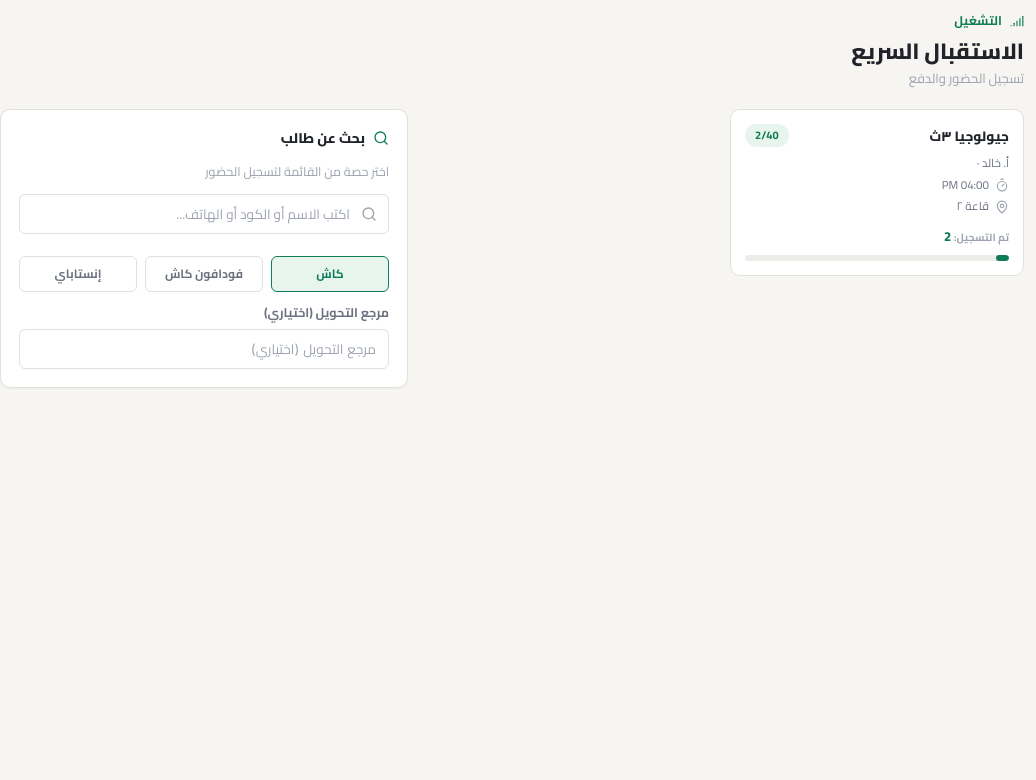
Test: LobbyPage (OperationsPage mode="lobby") › checks a student in with CASH after searching and selecting a session
Click the button "جيولوجيا ٣ث 2/40 أ. خالد · 04:00 PM قاعة ٢ تم التسجيل: 2" at (980, 136), box [730,109,1024,276]
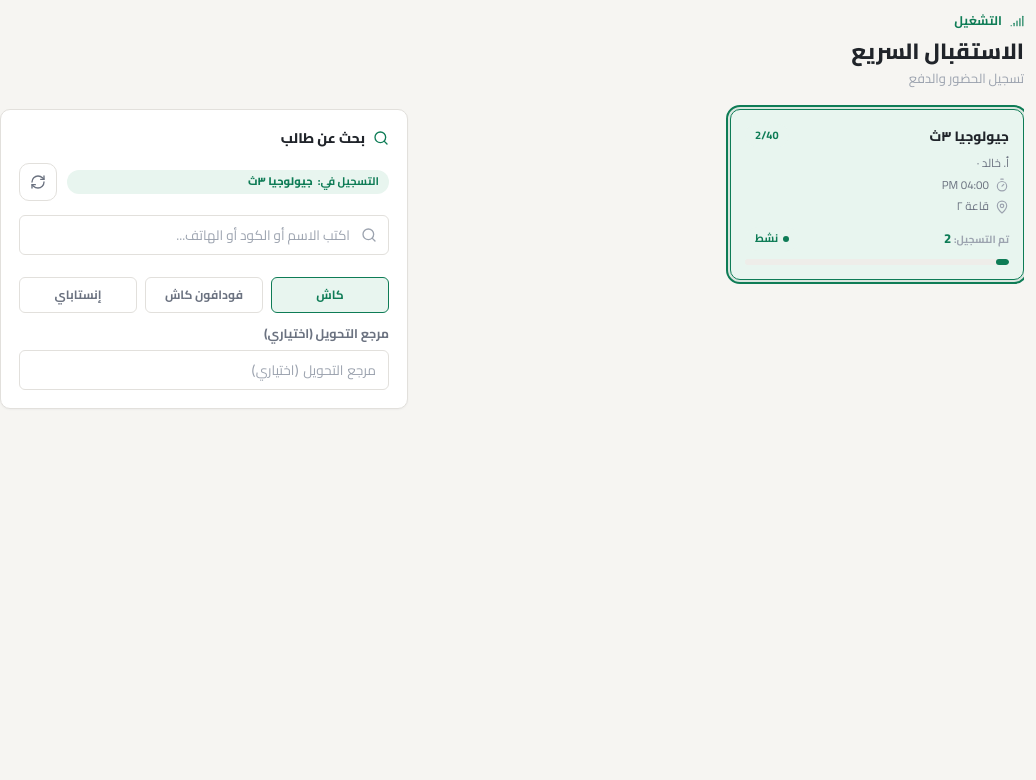
Type "محمد" into the field with placeholder "اكتب الاسم أو الكود أو الهاتف..." at (204, 235), box [19,215,389,255]
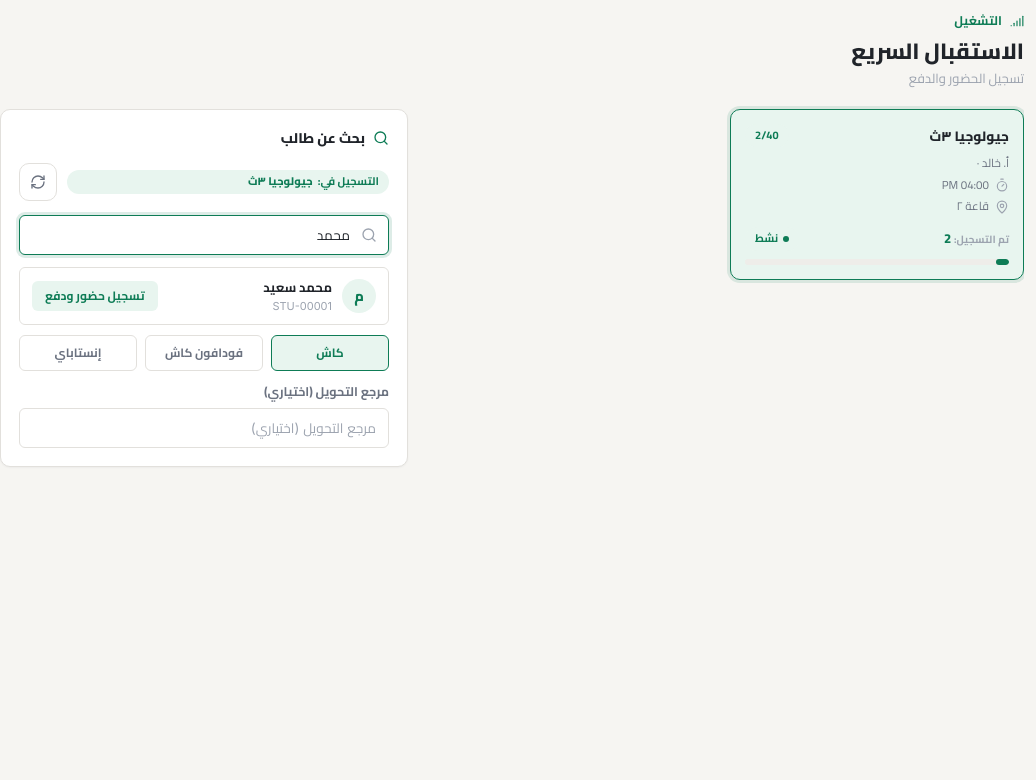
Click the button "تسجيل حضور ودفع" at (95, 296), box [32,281,158,312]
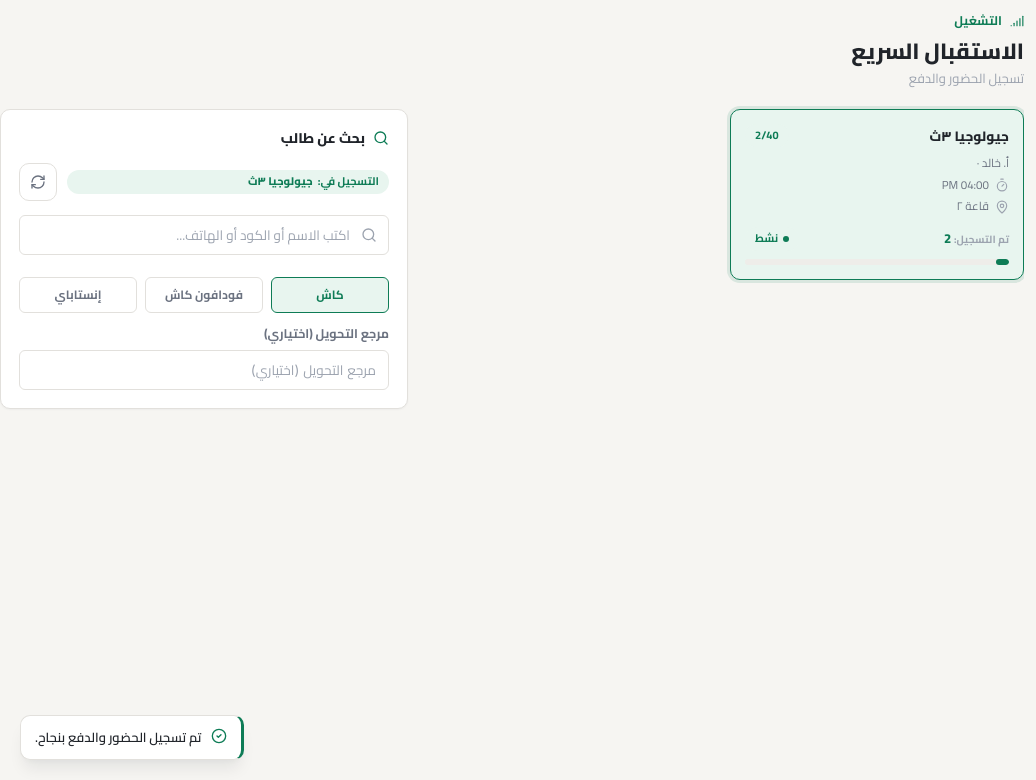
Expected: the text "تم تسجيل الحضور والدفع بنجاح." is shown, [35,728,202,747]
Expected: the text "محمد سعيد" is gone
